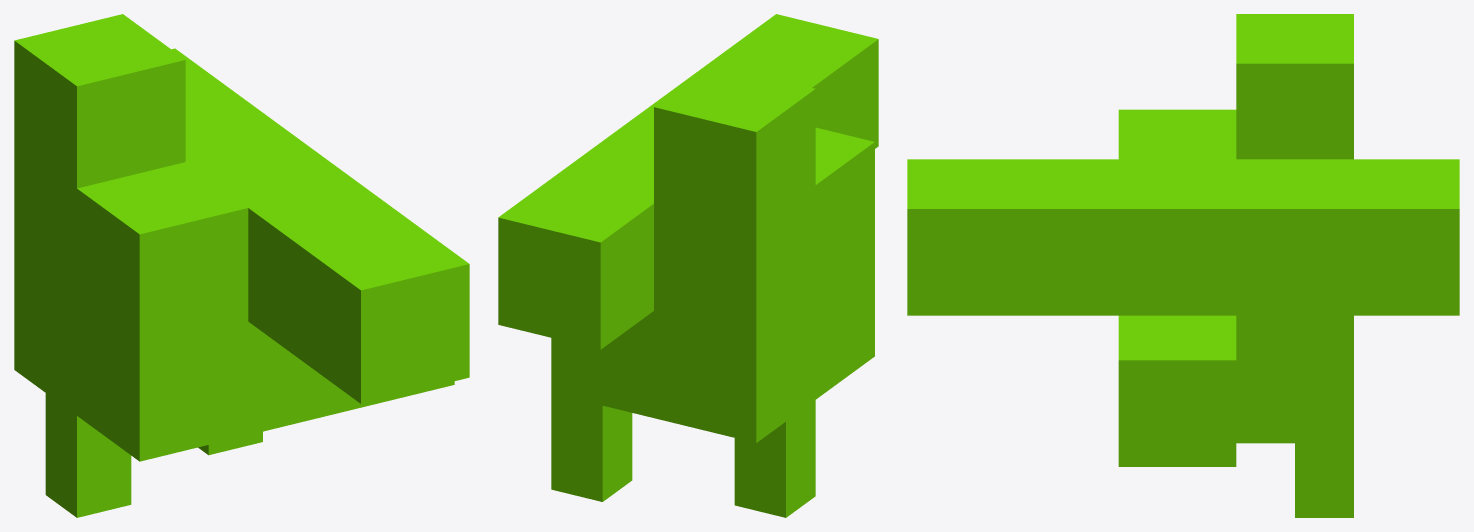
File: weird_cube.glb
3 views of the same model, side by side, from view 1: azimuth 30°, elevation 25°; view 2: azimuth 150°, elevation 25°; view 3: azimuth 270°, elevation 25° (orthographic). The views are drawn at different scales.
Visible parts, largest first — view 1: Cube; view 2: Cube; view 3: Cube.
Boxes of the visible parts, bbox=[...] form: Cube: bbox=[14, 14, 469, 517]; Cube: bbox=[498, 14, 878, 517]; Cube: bbox=[907, 14, 1459, 517].
Bounding box in the file's own units: 3.22 × 4.22 × 5.22.
